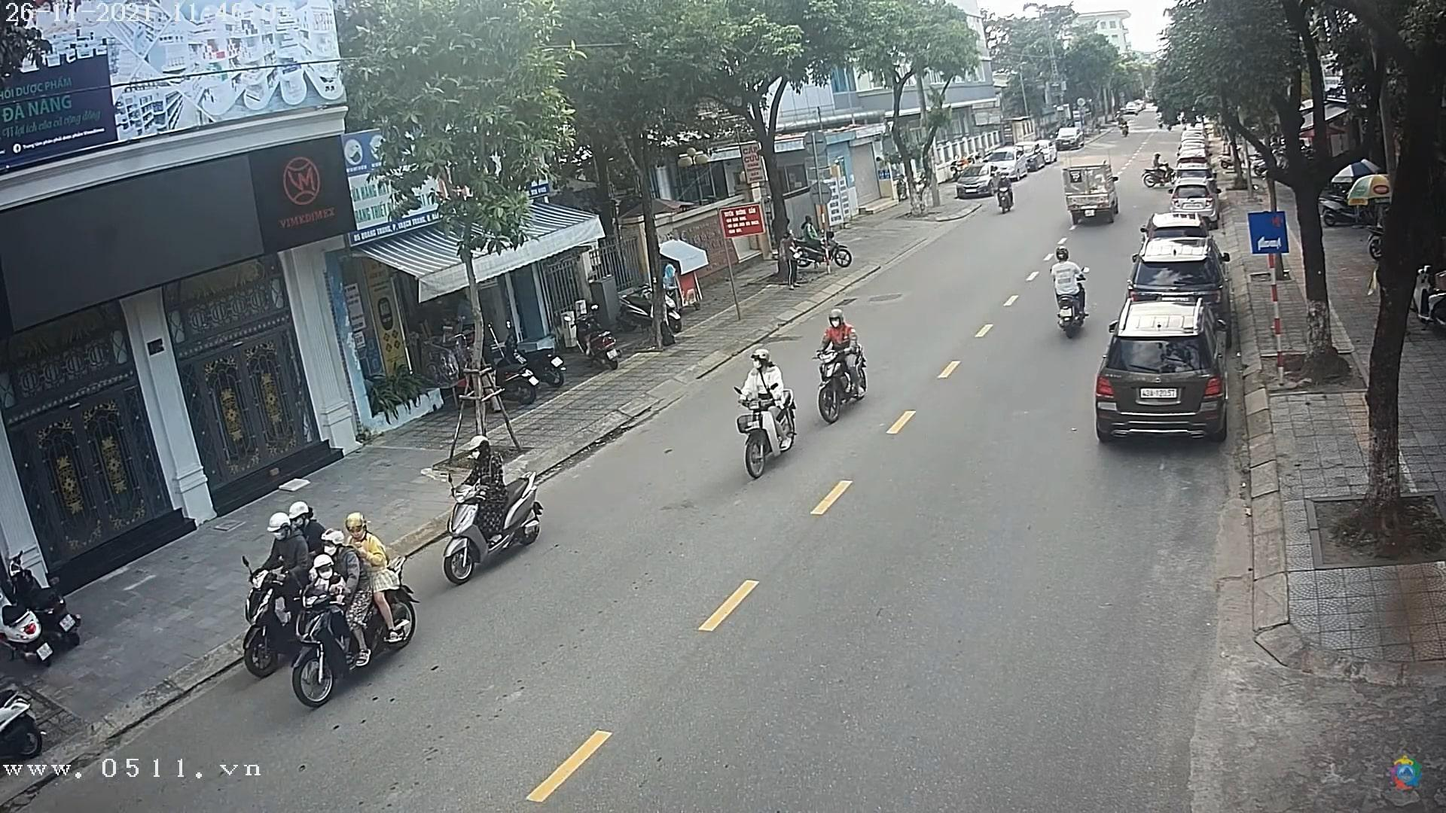motorbike: (287, 584, 425, 710), (441, 477, 546, 589), (737, 392, 805, 481), (814, 343, 870, 424), (1051, 279, 1095, 339)
